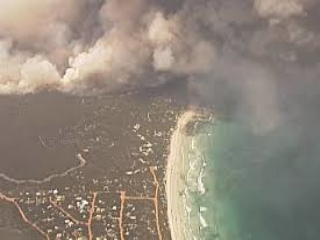smoke: (3, 8, 297, 101)
